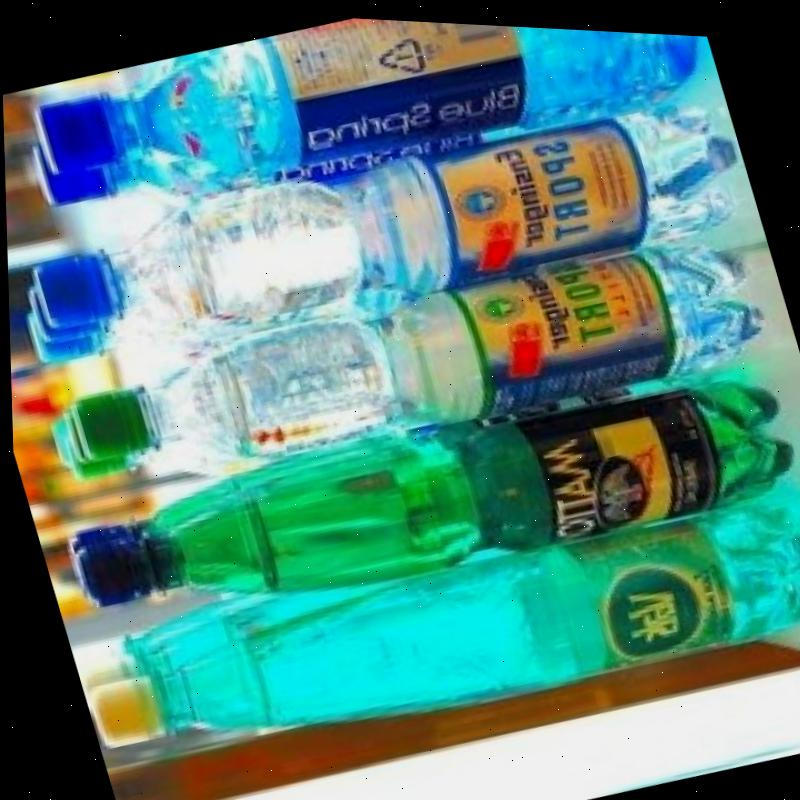botella: (48, 320, 800, 680), (16, 48, 761, 407), (64, 455, 800, 800), (58, 193, 775, 533), (20, 1, 720, 255), (24, 1, 675, 264), (17, 231, 242, 381), (53, 382, 231, 507), (27, 281, 182, 377)
